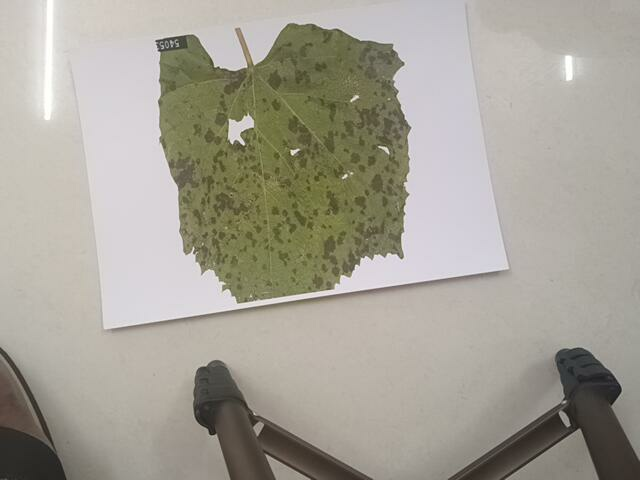Grape_Blight_Leaf: (140, 28, 455, 296)
